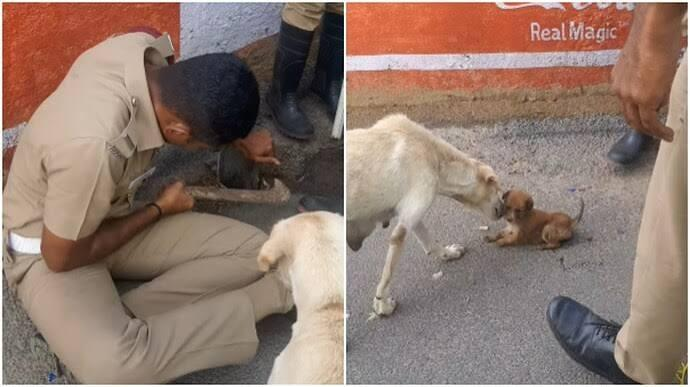adult_dog: (346, 113, 509, 323), (253, 210, 344, 386)
non-dog: (2, 31, 298, 383), (546, 2, 690, 384), (269, 2, 345, 142)
puppy-dog: (479, 184, 585, 251)
